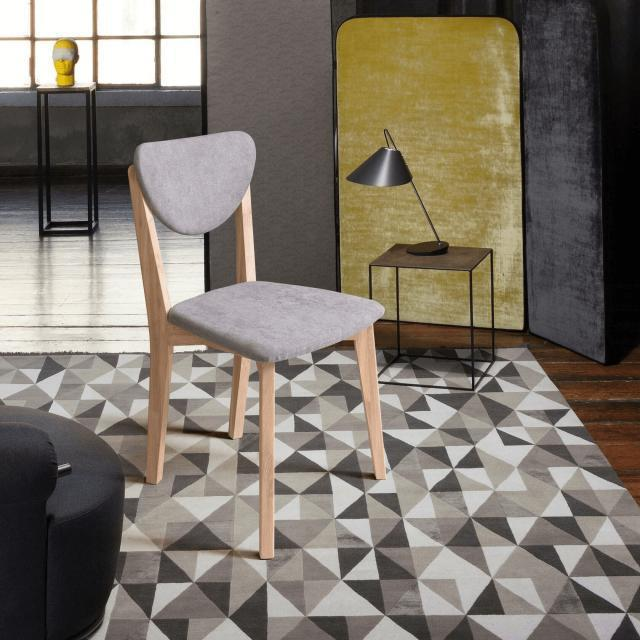chair: (123, 125, 392, 561), (114, 130, 366, 353)
